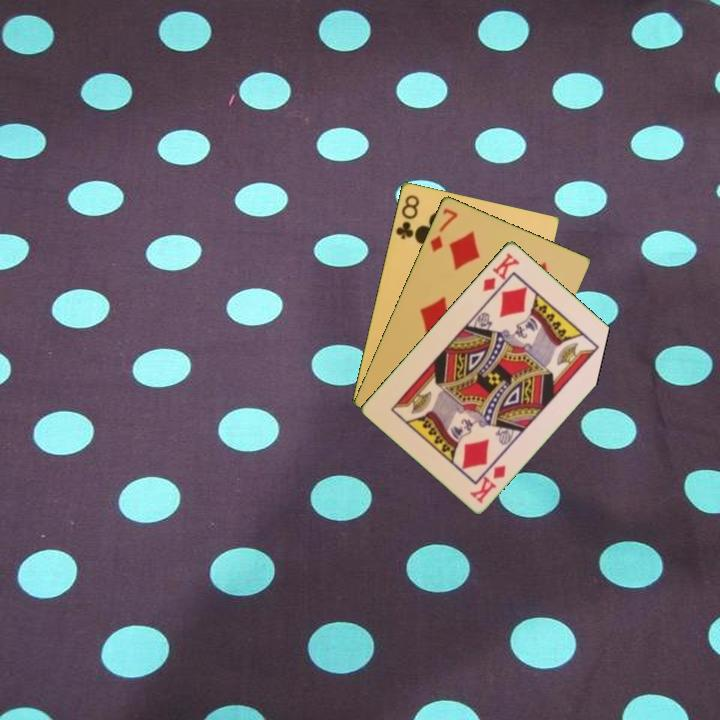7d: (426, 204, 460, 254)
8c: (392, 191, 422, 242)
Kd: (479, 249, 523, 294), (466, 461, 509, 506)
